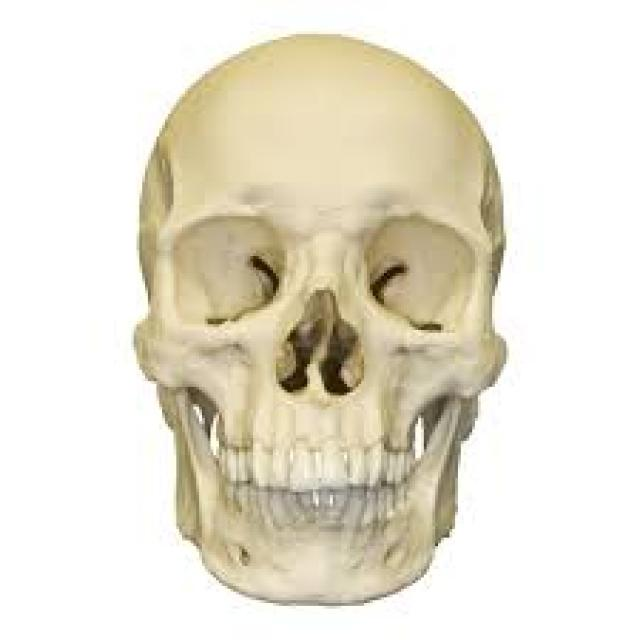skull: (120, 24, 536, 613)
